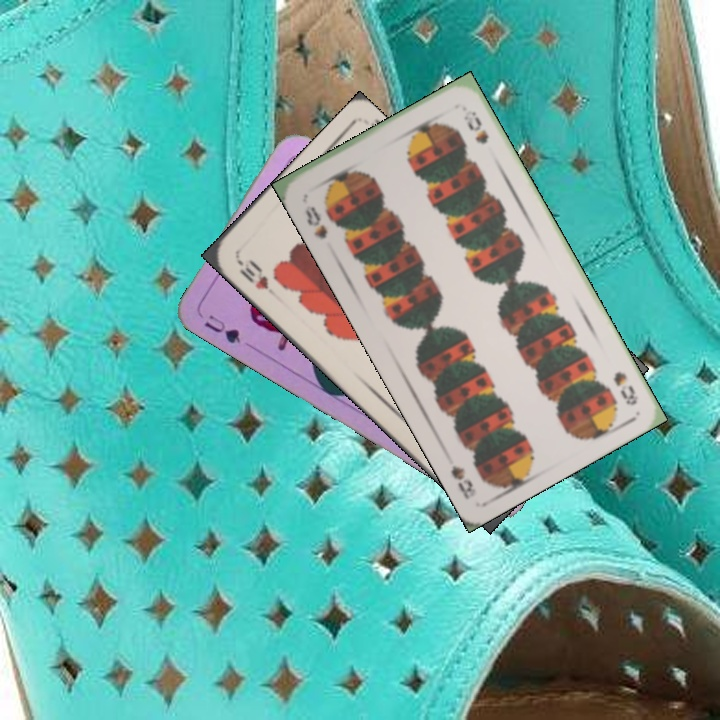GU: (200, 310, 243, 346)
H10: (232, 254, 272, 292)
S8: (609, 367, 641, 408), (301, 201, 331, 242)
